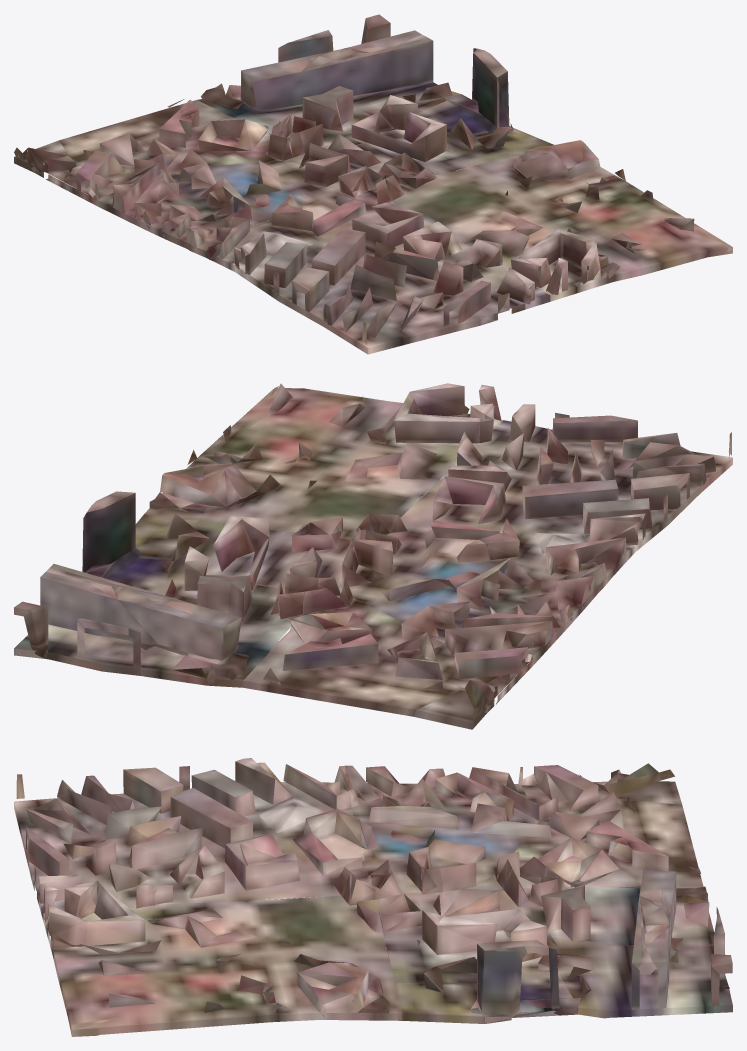
The picture shows the model from 3 angles, top to bottom: view 1: azimuth 30°, elevation 25°; view 2: azimuth 150°, elevation 25°; view 3: azimuth 270°, elevation 25°; orthographic projection. The views are drawn at different scales.
Visible parts, largest first — view 1: Mesh_0; view 2: Mesh_0; view 3: Mesh_0.
Part boxes in pixels (<box>): Mesh_0: <box>14,14,732,354</box>; Mesh_0: <box>14,383,732,729</box>; Mesh_0: <box>14,758,732,1036</box>.
Bounding box in the file's own units: 532 × 76.86 × 659.
Materials: 2 (2 with a texture image).
